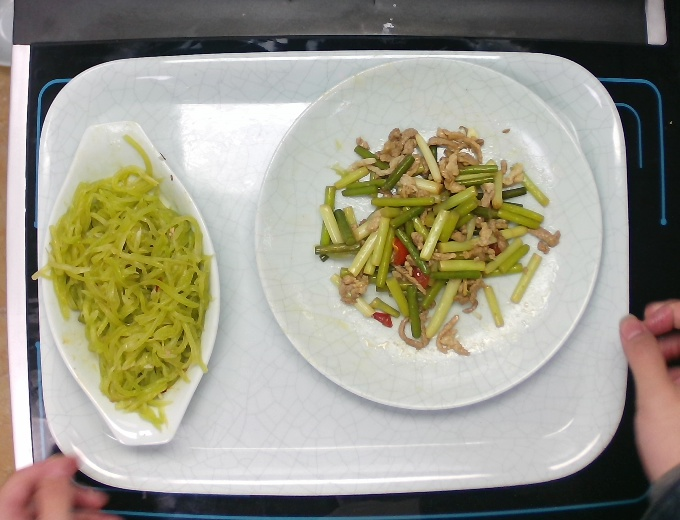JYsf-Da_Yuan_Pan: (247, 52, 606, 414)
JYsf-Yu_Pan: (39, 118, 224, 454)
